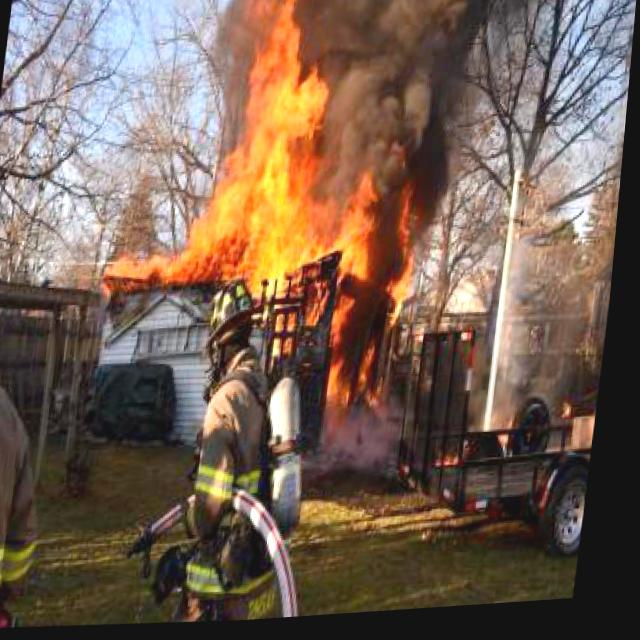helmet: (107, 0, 309, 291), (257, 197, 429, 430)
no_helmet: (288, 0, 487, 207)
